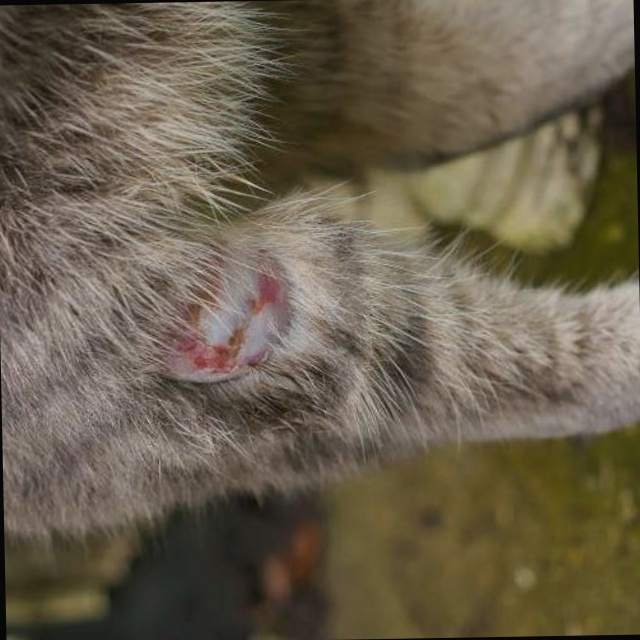lump_and_bump: (143, 252, 291, 387)
